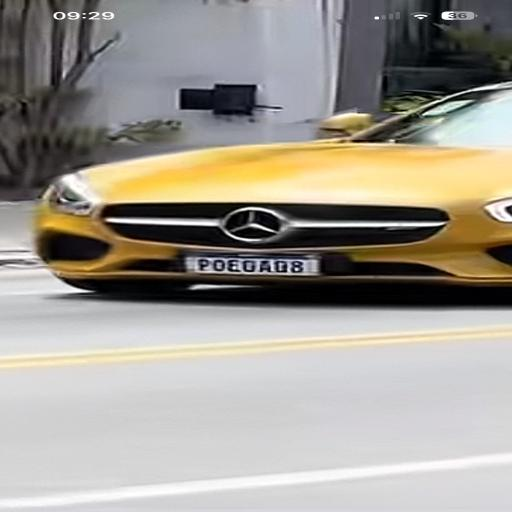detec-o-placas: (120, 217, 417, 300)
